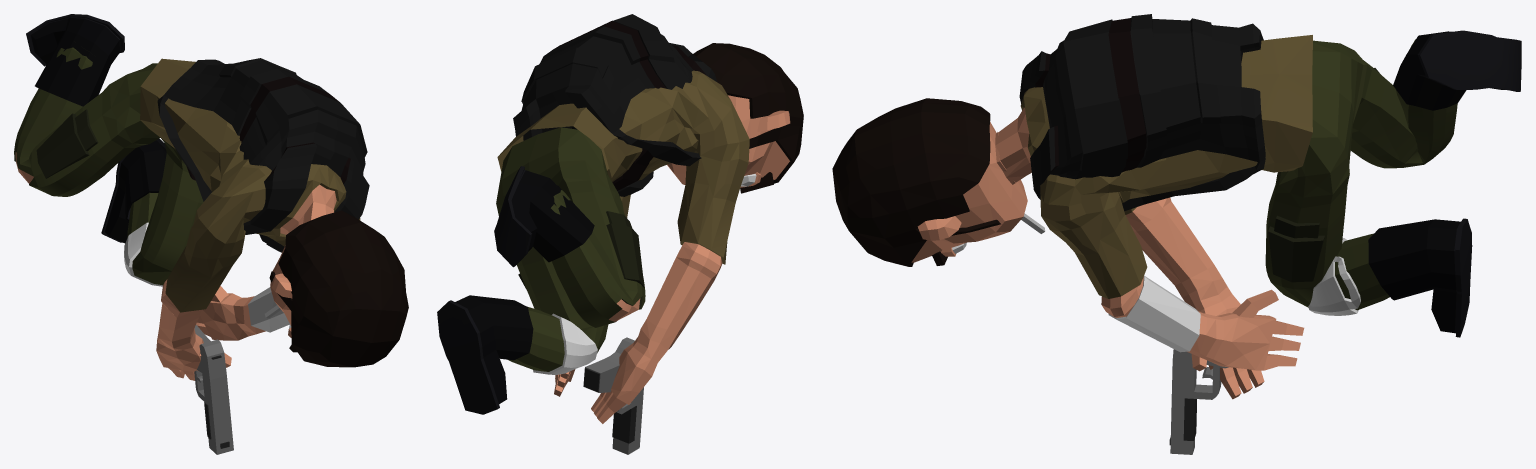
Rendered from frame_0075.obj.
3 views of the same model, side by side, from view 1: azimuth 30°, elevation 25°; view 2: azimuth 150°, elevation 25°; view 3: azimuth 270°, elevation 25° (orthographic). The views are drawn at different scales.
Parts seen in each view (by area): view 1: Body, Gun; view 2: Body, Gun; view 3: Body, Gun.
Part boxes in pixels (x1,y1,x2,y2): Body: (14, 14, 408, 380); Gun: (194, 325, 233, 454); Body: (437, 14, 803, 423); Gun: (583, 337, 643, 454); Body: (832, 14, 1521, 399); Gun: (1169, 349, 1228, 454).
Size of the model in its own units: 1.4 by 2.42 by 3.38.
